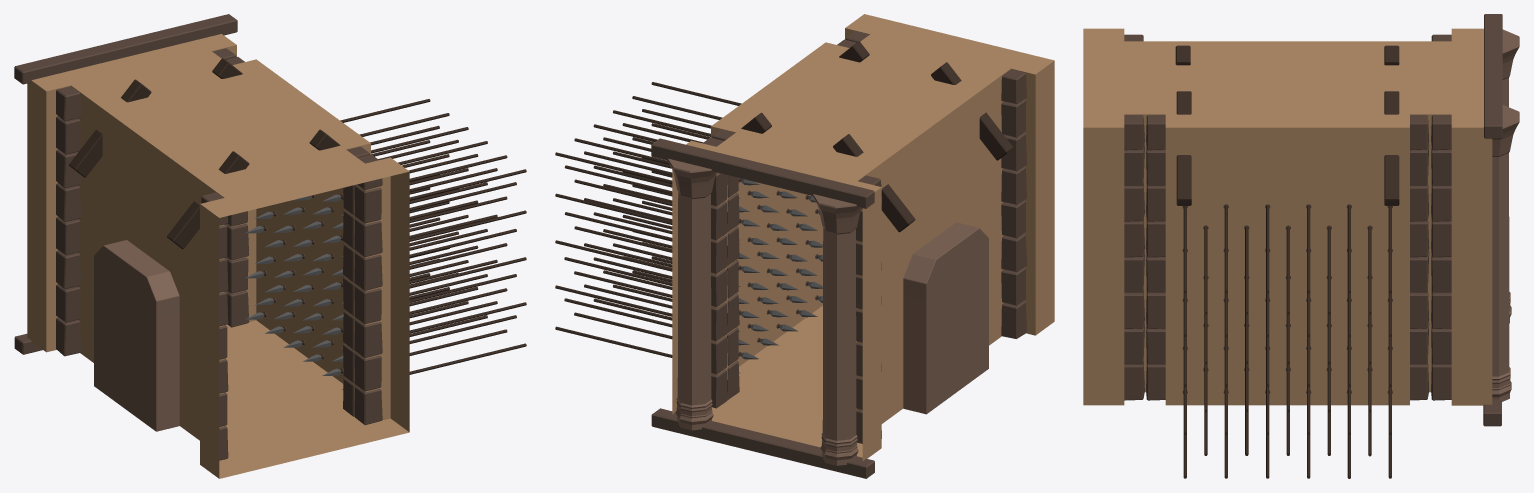
File: Tunnel_SpawnSpawner.fbx
3 renders of one model, left to right at view 1: azimuth 30°, elevation 25°; view 2: azimuth 150°, elevation 25°; view 3: azimuth 270°, elevation 25°, orthographic. The views are drawn at different scales.
Visible parts, largest first — view 1: Tunnel_Spawn, Speere_normal, Spawner, Speere_Podest; view 2: Tunnel_Spawn, Speere_normal, Spawner, Speere_Podest; view 3: Tunnel_Spawn, Speere_normal, Speere_Podest.
Boxes of the visible parts, x1,y1,x2,y2 form: Tunnel_Spawn: (14, 14, 409, 478); Speere_normal: (245, 99, 526, 389); Spawner: (94, 240, 179, 431); Speere_Podest: (255, 217, 449, 333); Tunnel_Spawn: (651, 14, 1054, 478); Speere_normal: (555, 82, 822, 373); Spawner: (903, 222, 988, 414); Speere_Podest: (564, 257, 759, 359); Tunnel_Spawn: (1083, 14, 1519, 426); Speere_normal: (1183, 205, 1391, 478); Speere_Podest: (1347, 363, 1371, 478).
Size of the model in its own units: 437 by 330 by 427.
